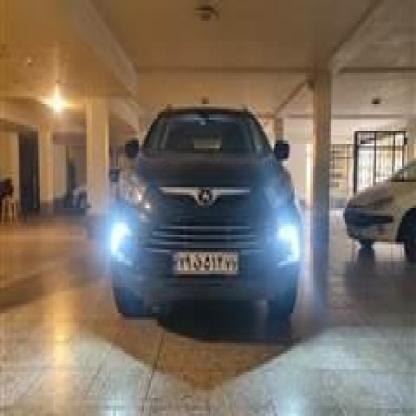Car: (106, 93, 302, 345), (336, 148, 416, 278), (69, 169, 123, 220)
